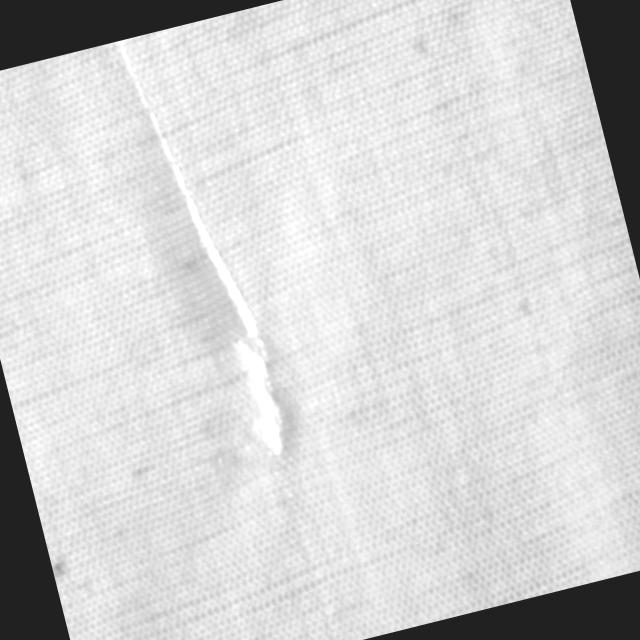hole: (112, 23, 296, 474)
